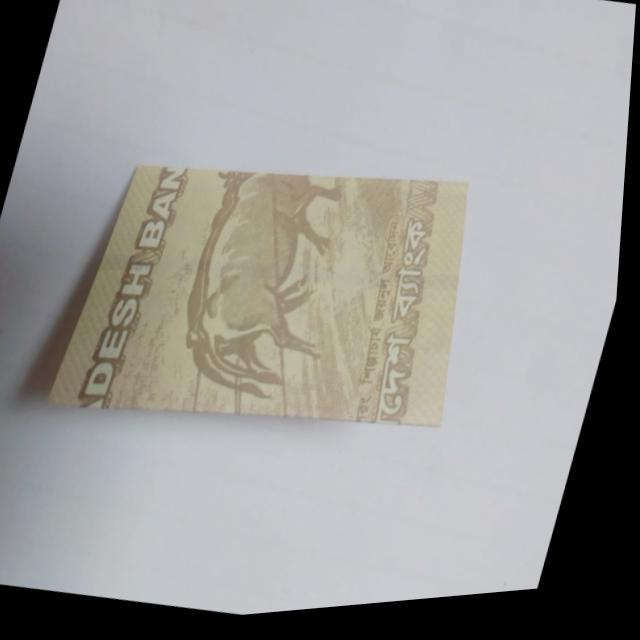Taka: (57, 115, 516, 470)
